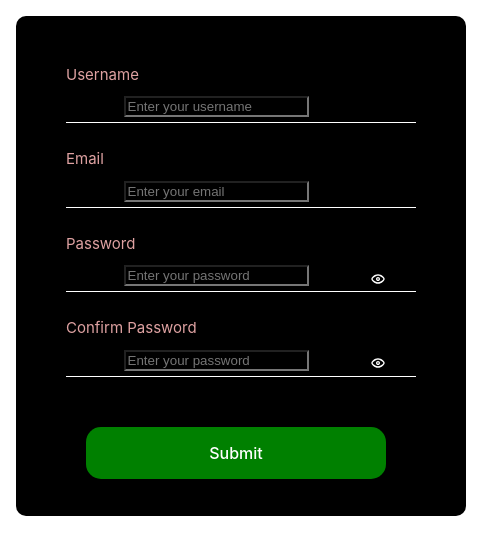
Test: Form Component › должен отображать ошибки при несовпадении паролей
In the 1st password field with placeholder "Enter your password": (216, 276) x1=124 y1=265 x2=308 y2=286, type "password123"
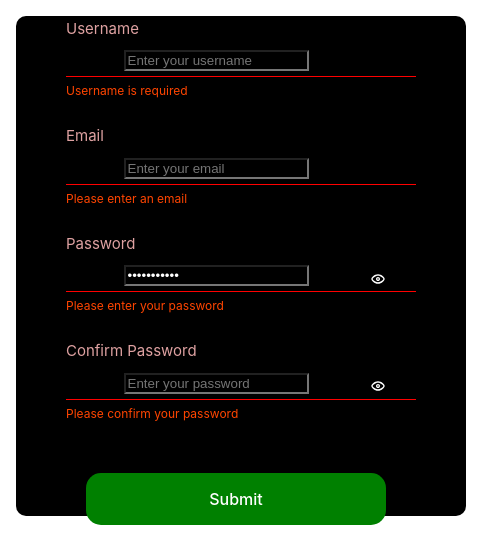
In the password field with placeholder "Enter your password": (216, 383) x1=124 y1=372 x2=308 y2=394, type "password456"
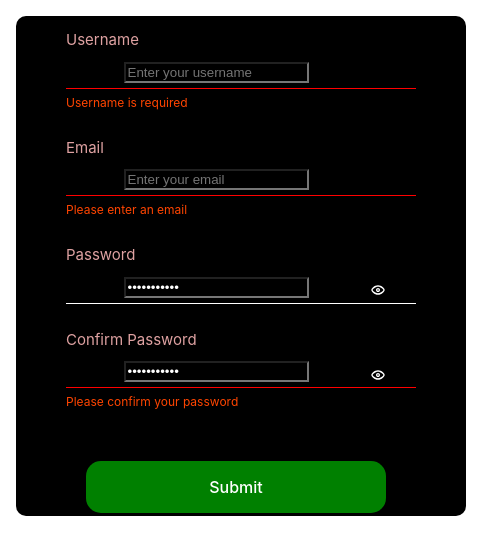
Click the button "Submit": (236, 487) x1=86 y1=461 x2=386 y2=513
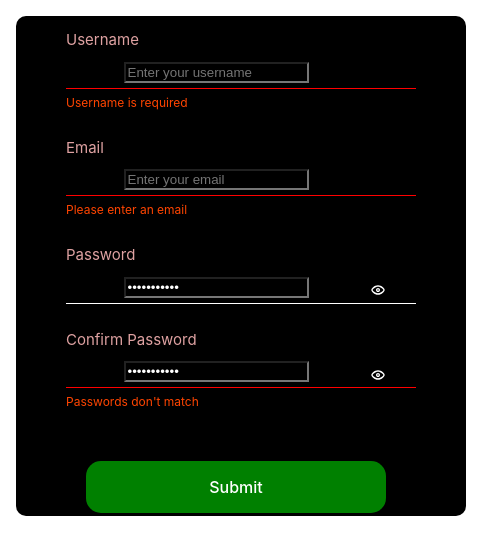
Now the text "Passwords don't match" is shown, box x1=66 y1=394 x2=199 y2=409
